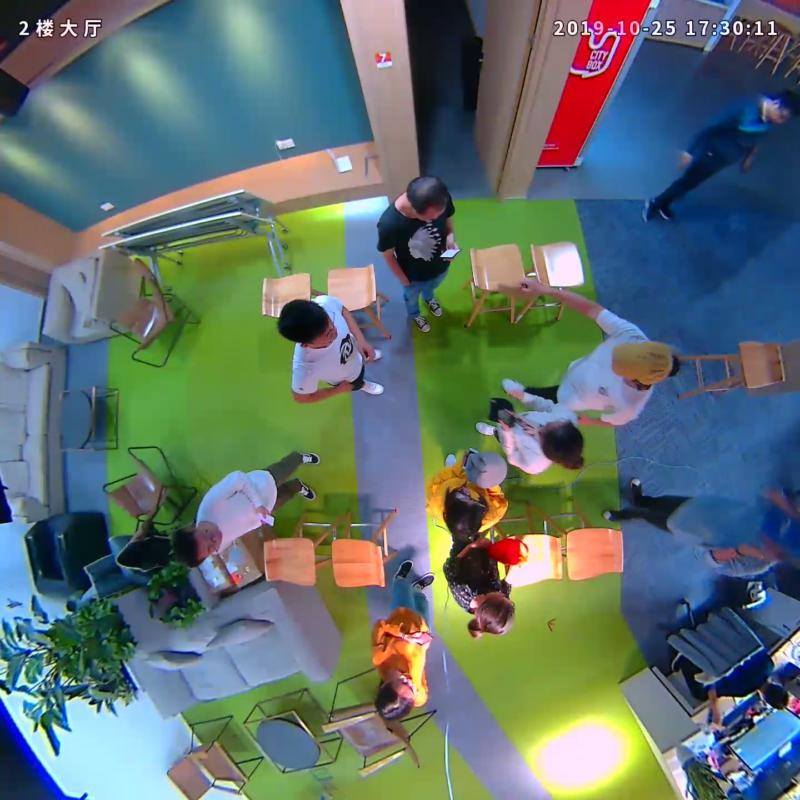head: (277, 298, 339, 348), (611, 342, 675, 383), (758, 504, 800, 564), (538, 419, 586, 470), (375, 672, 415, 723), (405, 175, 450, 220), (172, 527, 221, 568), (475, 589, 516, 636), (444, 494, 484, 538), (765, 88, 797, 123)
